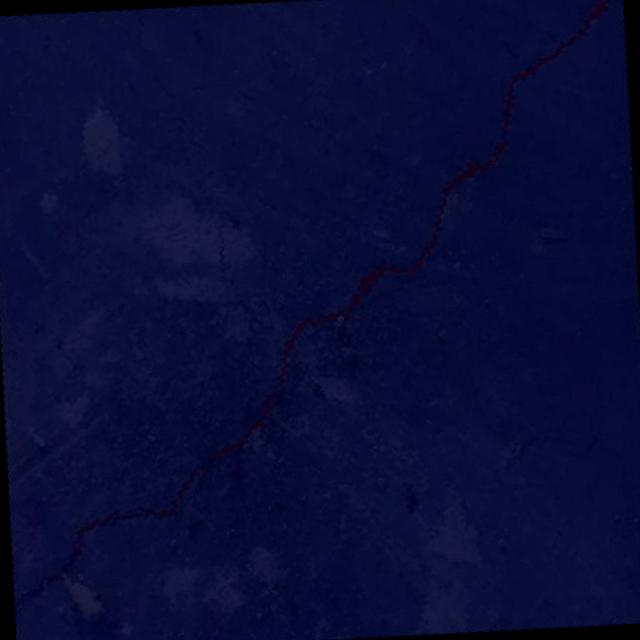crack: (0, 0, 640, 615), (134, 9, 146, 56)
